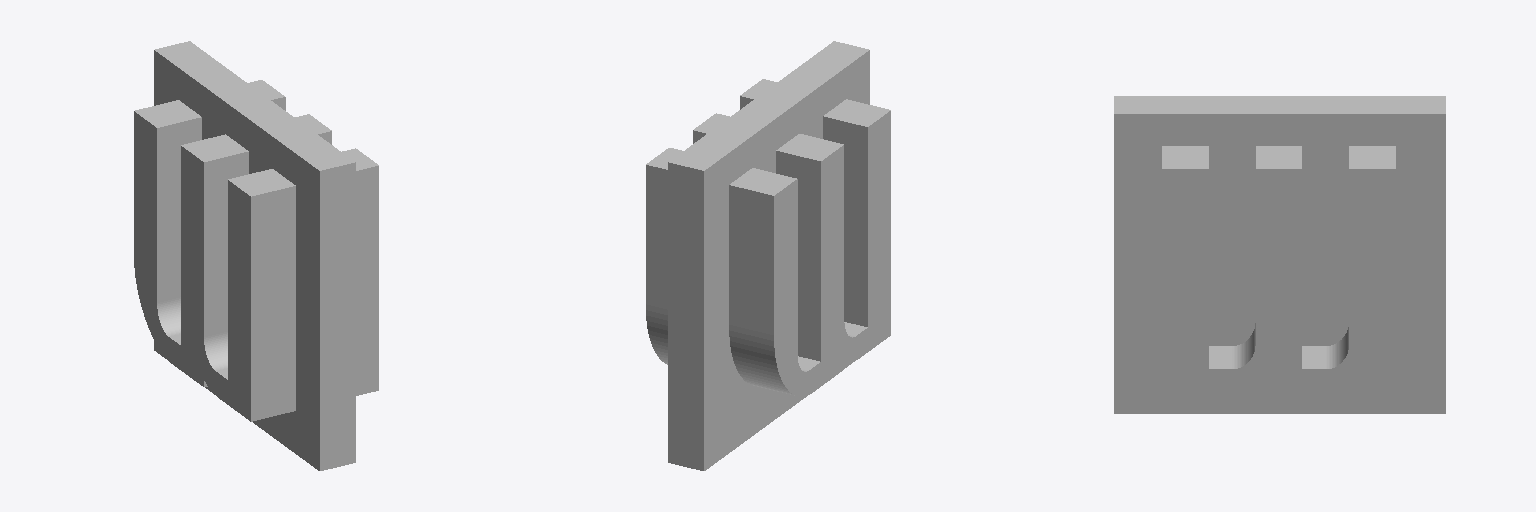
File: letter_W.obj
3 views of the same model, side by side, from view 1: azimuth 30°, elevation 25°; view 2: azimuth 150°, elevation 25°; view 3: azimuth 270°, elevation 25° (orthographic).
Parts seen in each view (by area): view 1: Text, window; view 2: Text, window; view 3: window, Text.
Boxes of the visible parts, <box> form: Text: <box>134,80,378,421</box>; window: <box>154,41,355,470</box>; Text: <box>646,79,890,396</box>; window: <box>668,41,869,470</box>; window: <box>1114,96,1445,413</box>; Text: <box>1162,146,1395,393</box>.
Size of the model in its own units: 0.894 by 2 by 2.